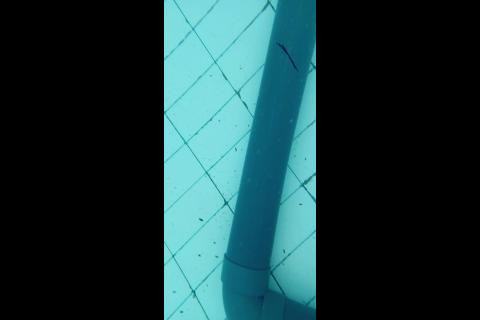keretakan: (274, 39, 299, 73)
